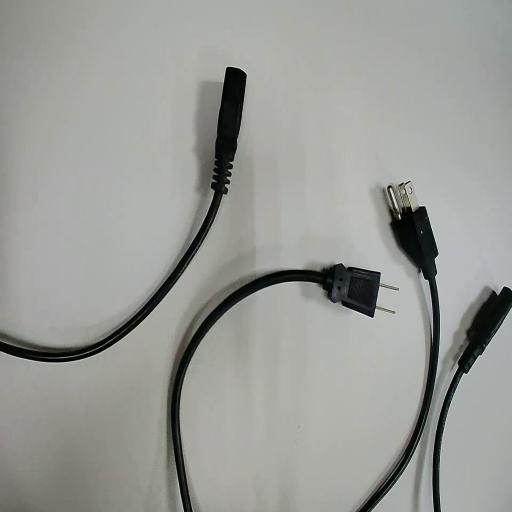wire: (0, 68, 245, 361), (170, 265, 378, 511), (359, 207, 438, 511), (433, 288, 511, 511)
